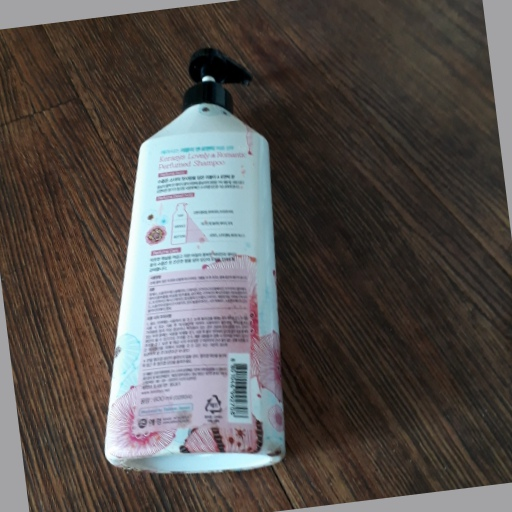Plastic_3: (104, 46, 291, 477)
